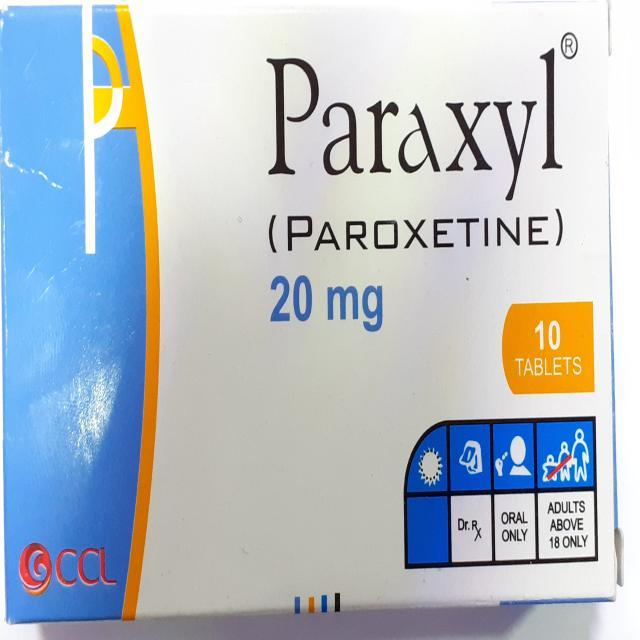drug-name: (260, 50, 573, 203)
